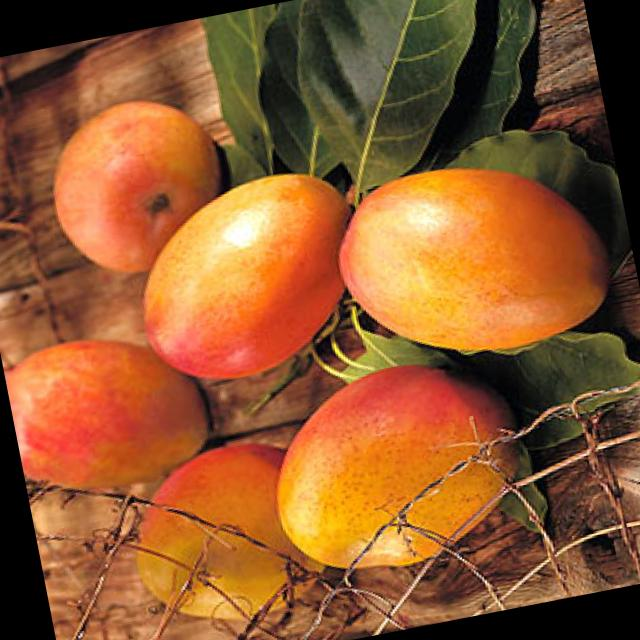mango: (322, 134, 622, 379), (256, 342, 536, 585), (116, 150, 384, 402), (1, 316, 218, 508), (38, 86, 235, 283)
